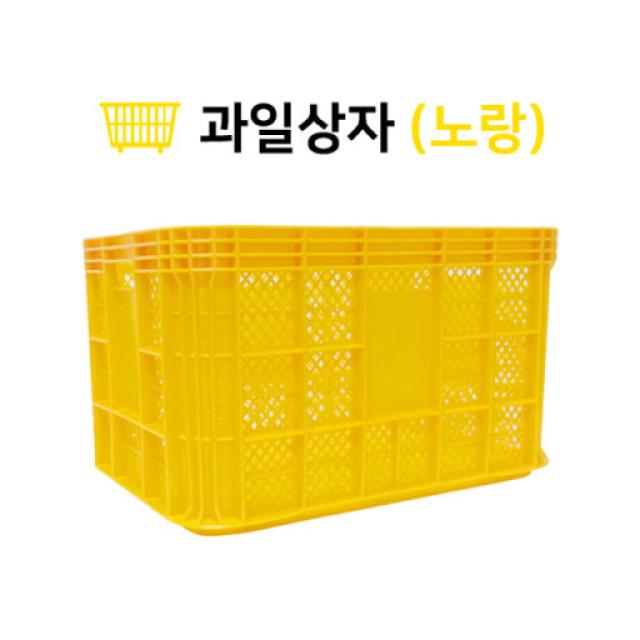basket: (87, 216, 566, 538)
